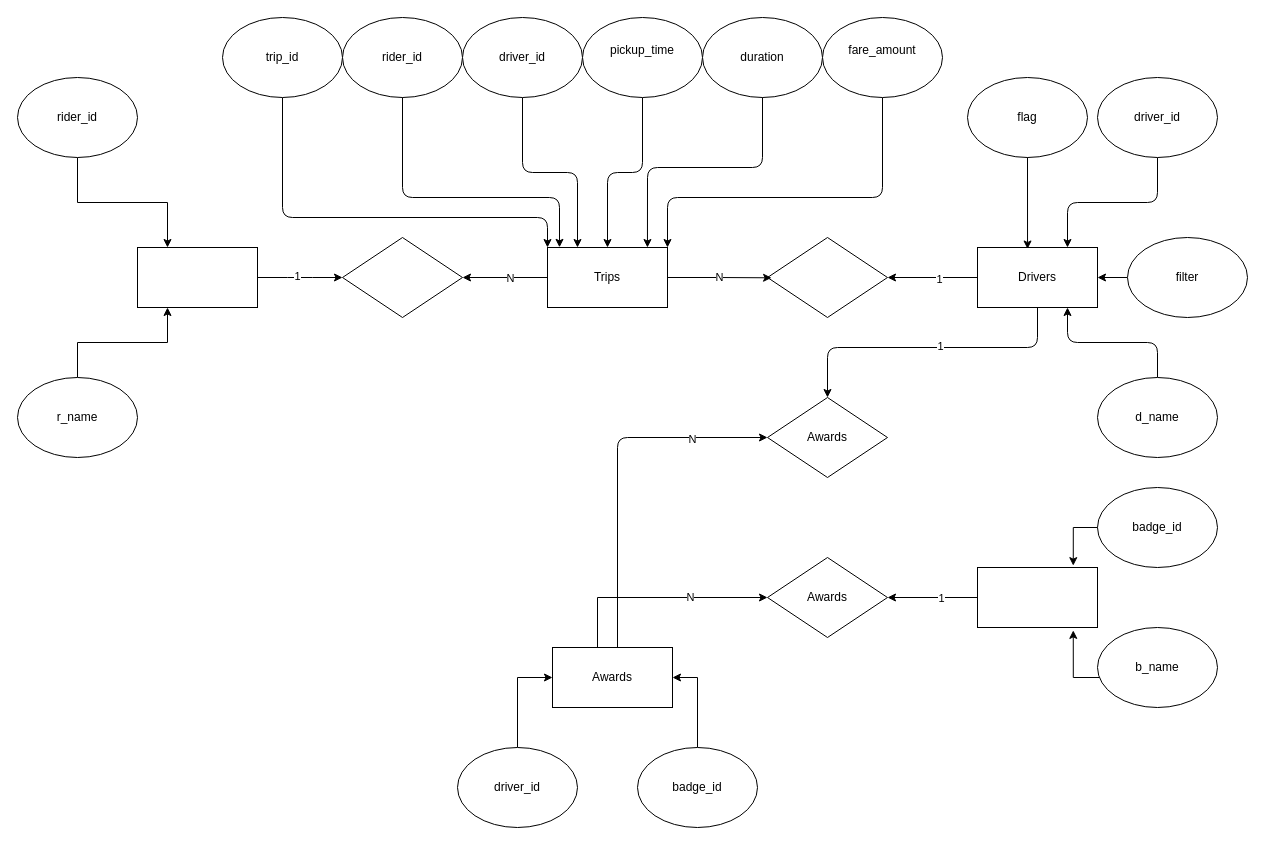
Some shapes in this 1265 by 845 pixel diagram are drawn without their labels. Here are the shapes that lost their labels. From the top down, the box of each, then its label:
(136, 246, 258, 308): Riders
(342, 236, 462, 318): takes
(766, 236, 888, 318): provided by
(976, 566, 1098, 628): Badges
